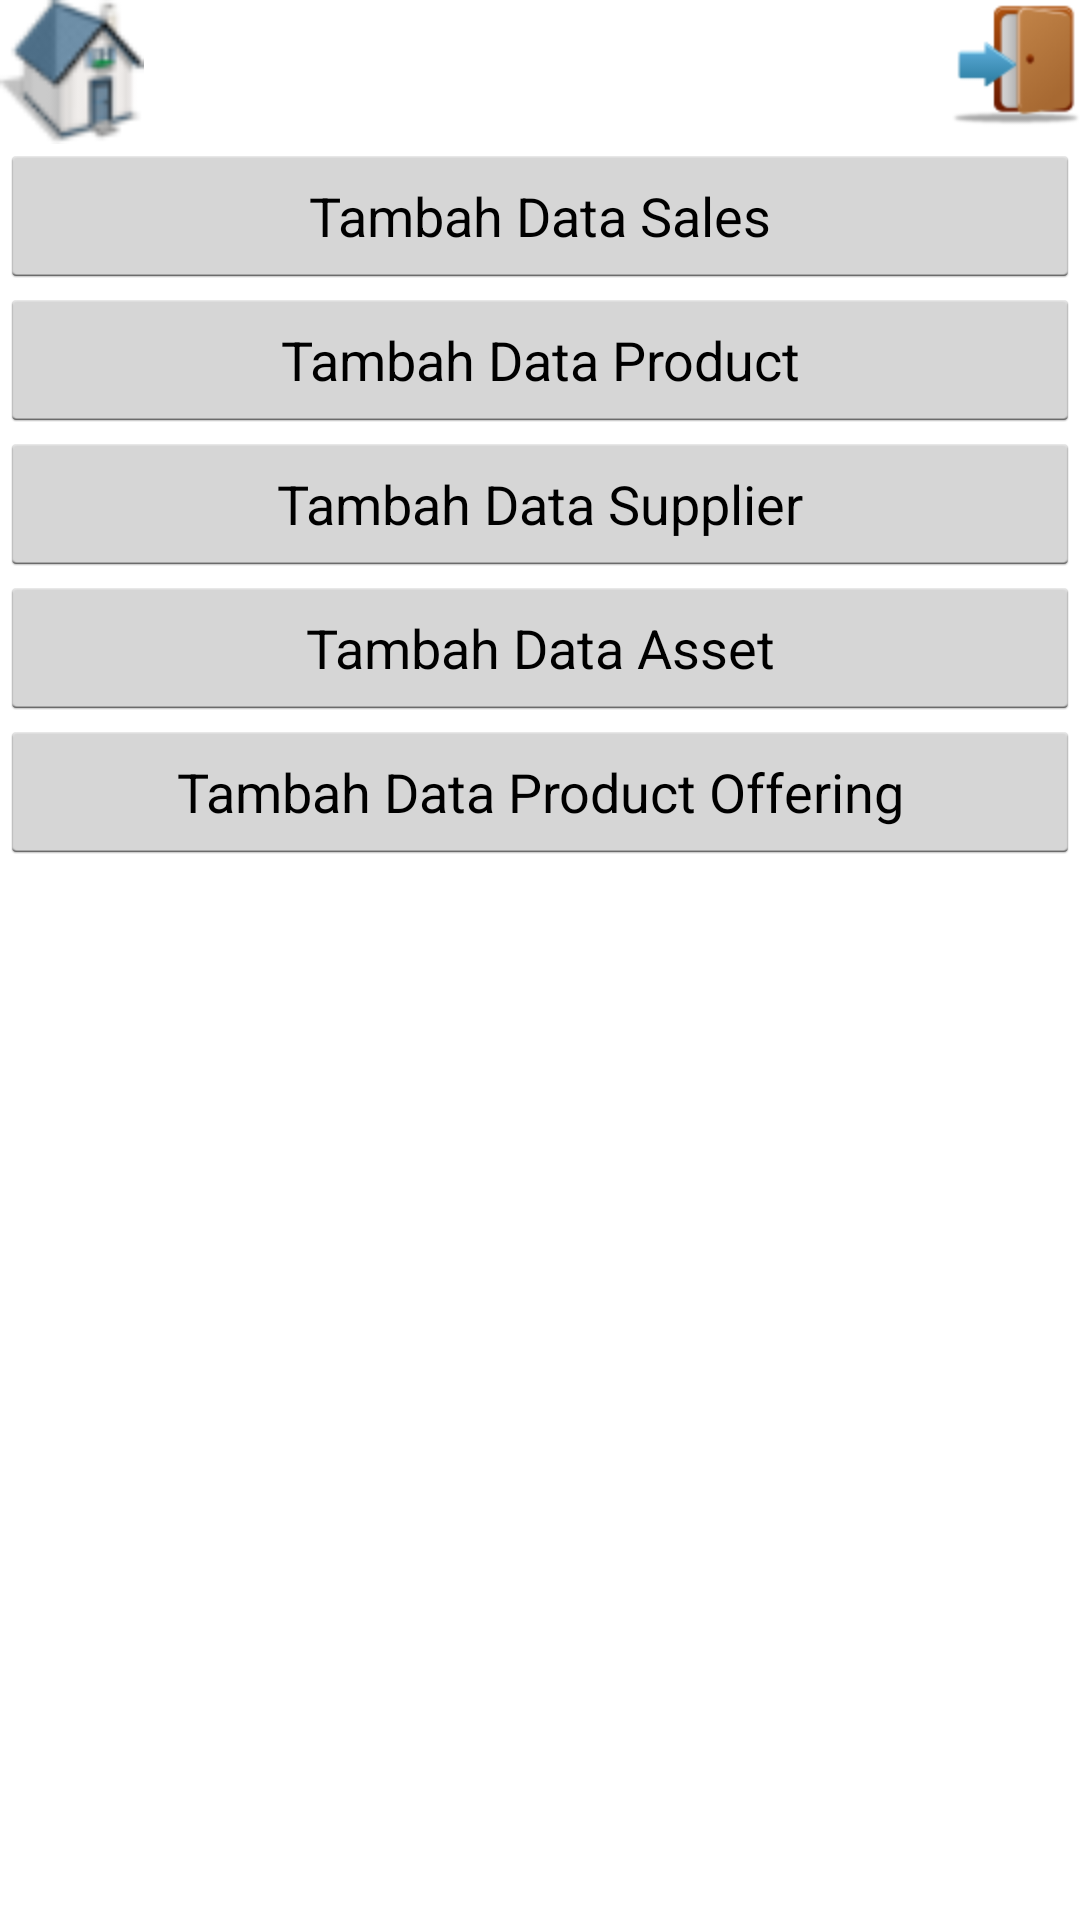

Icons on this 1080w x 1920h Android screen, each with the point to tap as [x,y]:
home: [72,70]
